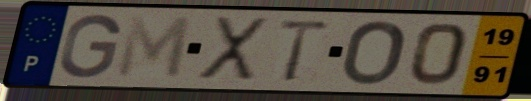0: (405, 21, 472, 88)
G: (56, 13, 125, 81)
M: (112, 14, 194, 82)
O: (339, 19, 409, 88)
T: (275, 18, 336, 84)
X: (194, 14, 272, 85)
